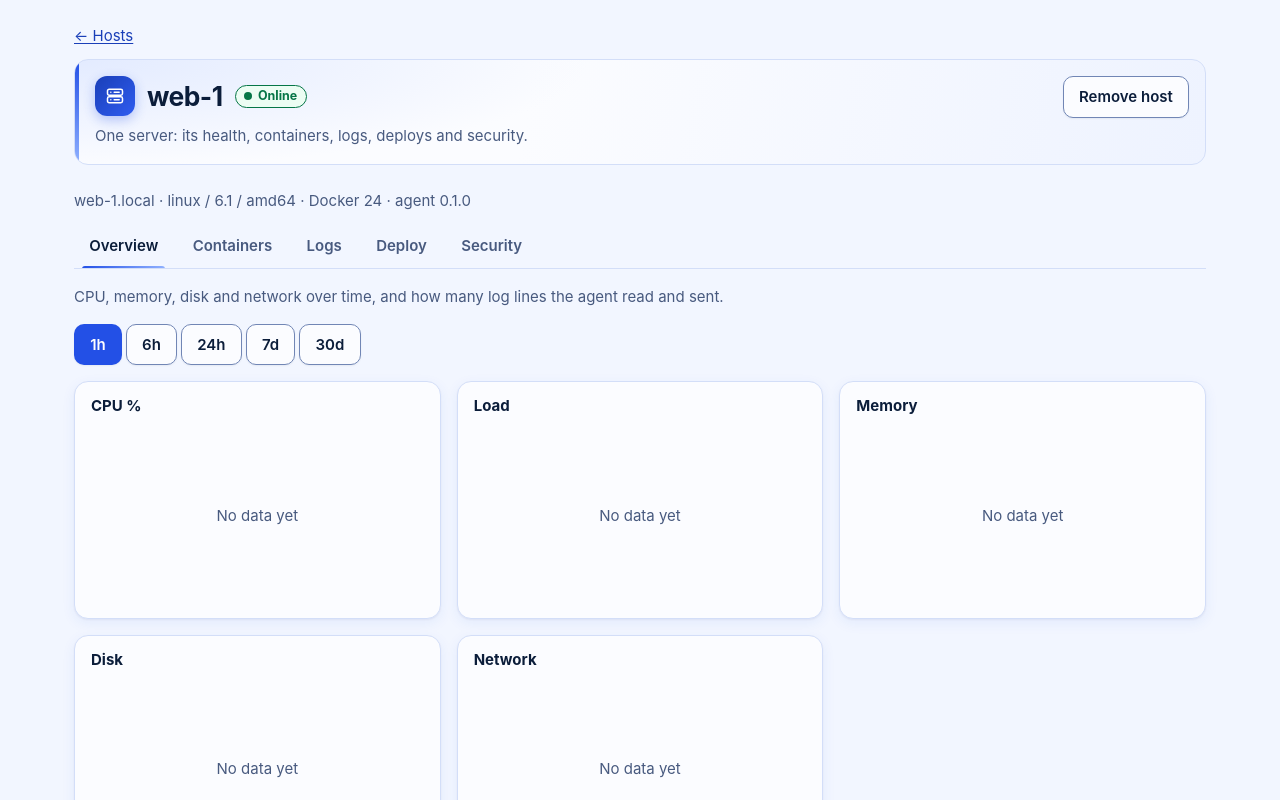
Test: HostPage › switches tabs via the URL
This screenshot has width=1280, height=800.
Expected: the heading "web-1" is shown, [147,80,222,113]
Click the tab "Containers".
click(232, 246)  # box [178,224,287,268]
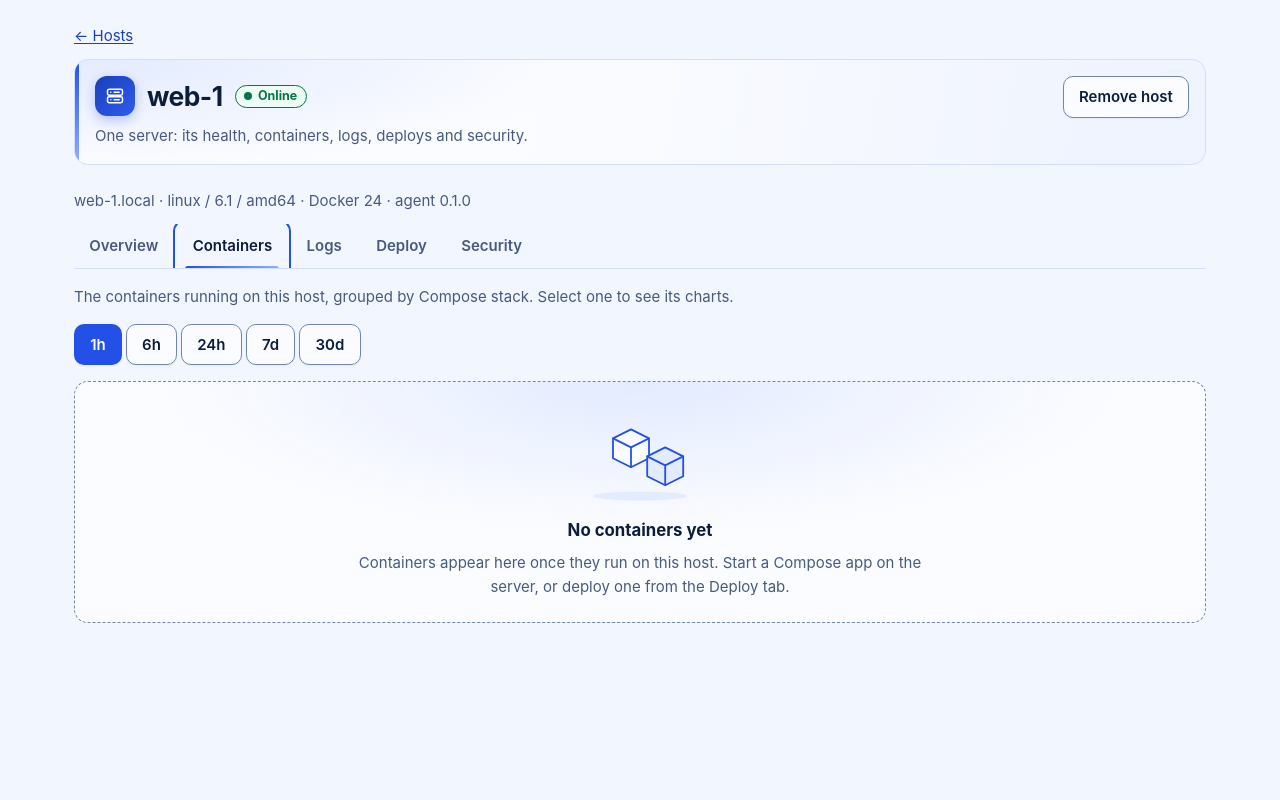
Expected: the text "No containers yet" is shown, [568,520,712,540]
Click the tab "Logs".
click(324, 246)  # box [291,224,357,268]
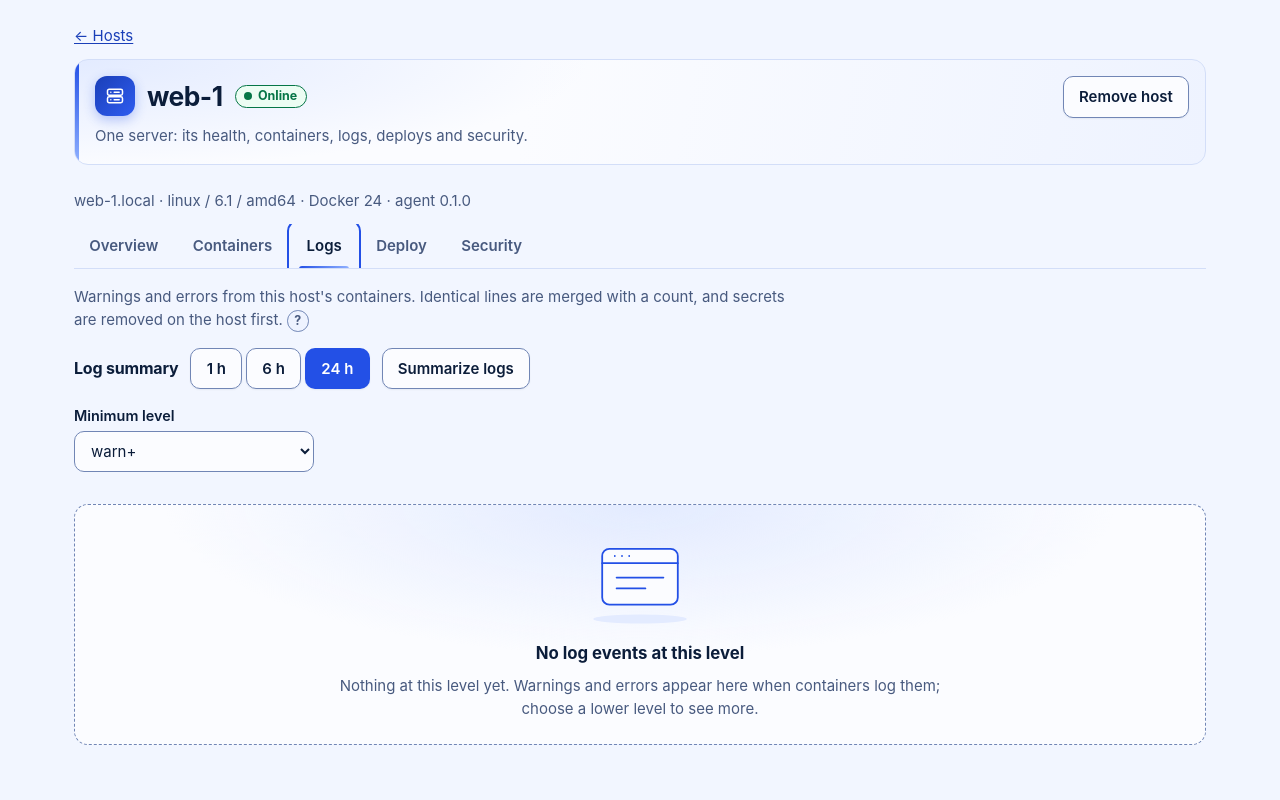
Expected: the text "No log events at this level" is shown, [536,643,744,663]
